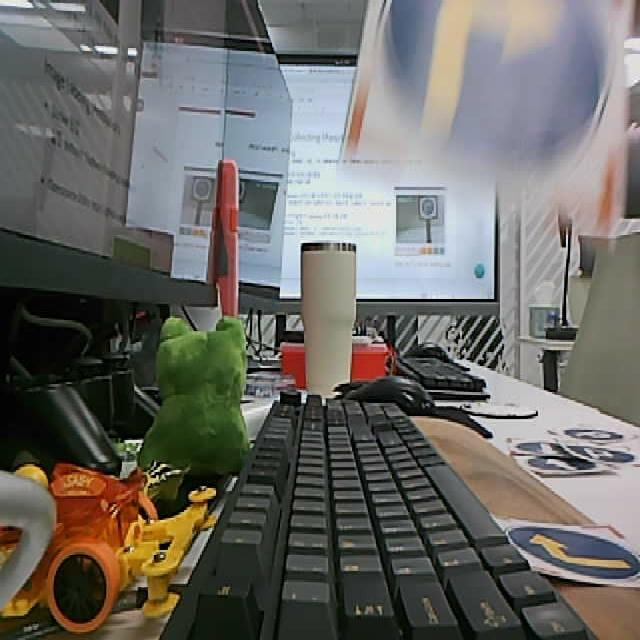turn: (509, 525, 640, 580)
